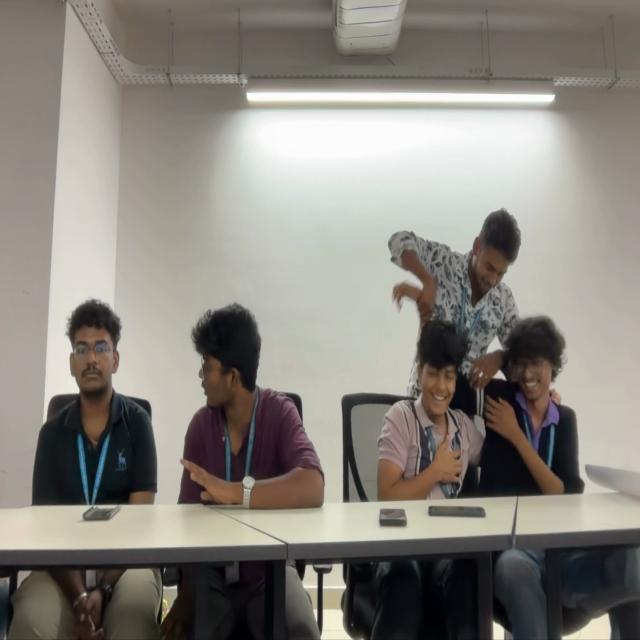Isolated: (177, 303, 325, 506), (31, 300, 157, 497)
socializing: (374, 206, 583, 494)
